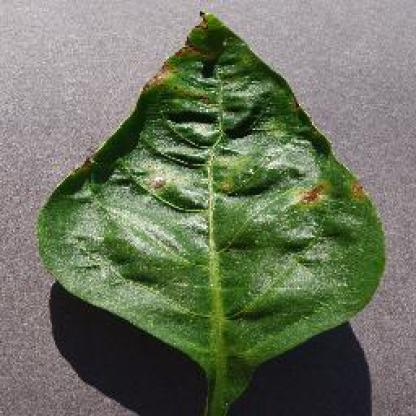bad leaf: (72, 16, 369, 362)
